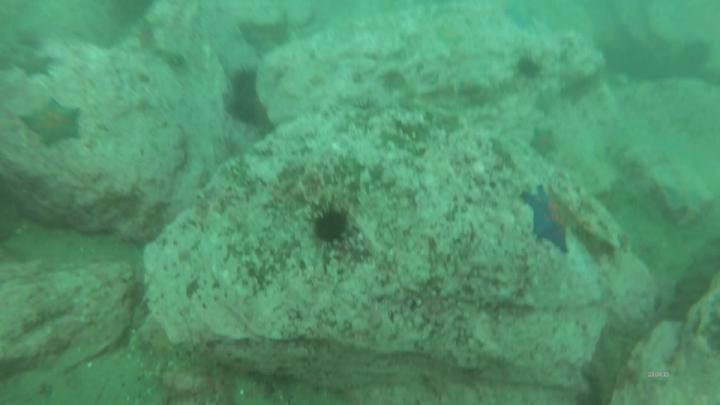echinus: (230, 70, 260, 121), (319, 210, 348, 239), (517, 56, 541, 80)
starfish: (523, 187, 570, 252), (24, 103, 82, 144), (19, 51, 51, 78), (505, 4, 531, 31), (533, 130, 557, 156), (459, 75, 482, 98)
